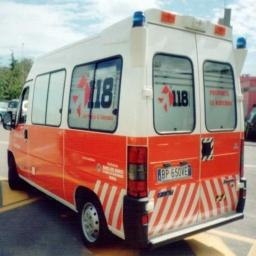Ambulance: (4, 9, 245, 246)
